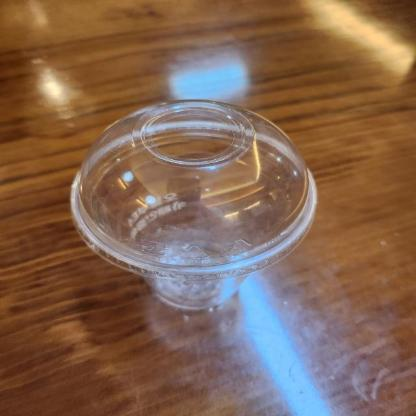Plastic Cup: (71, 100, 317, 310)
